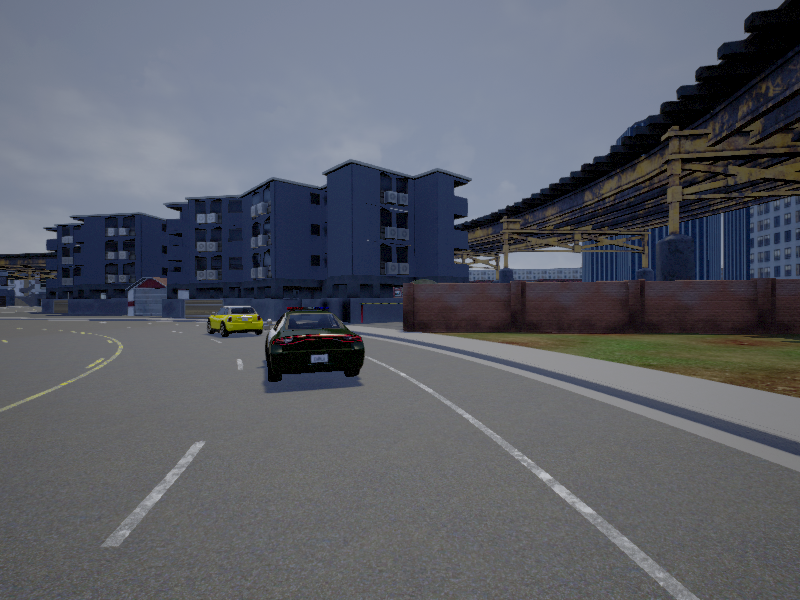Benign: (264, 308, 364, 378), (207, 305, 264, 337)
